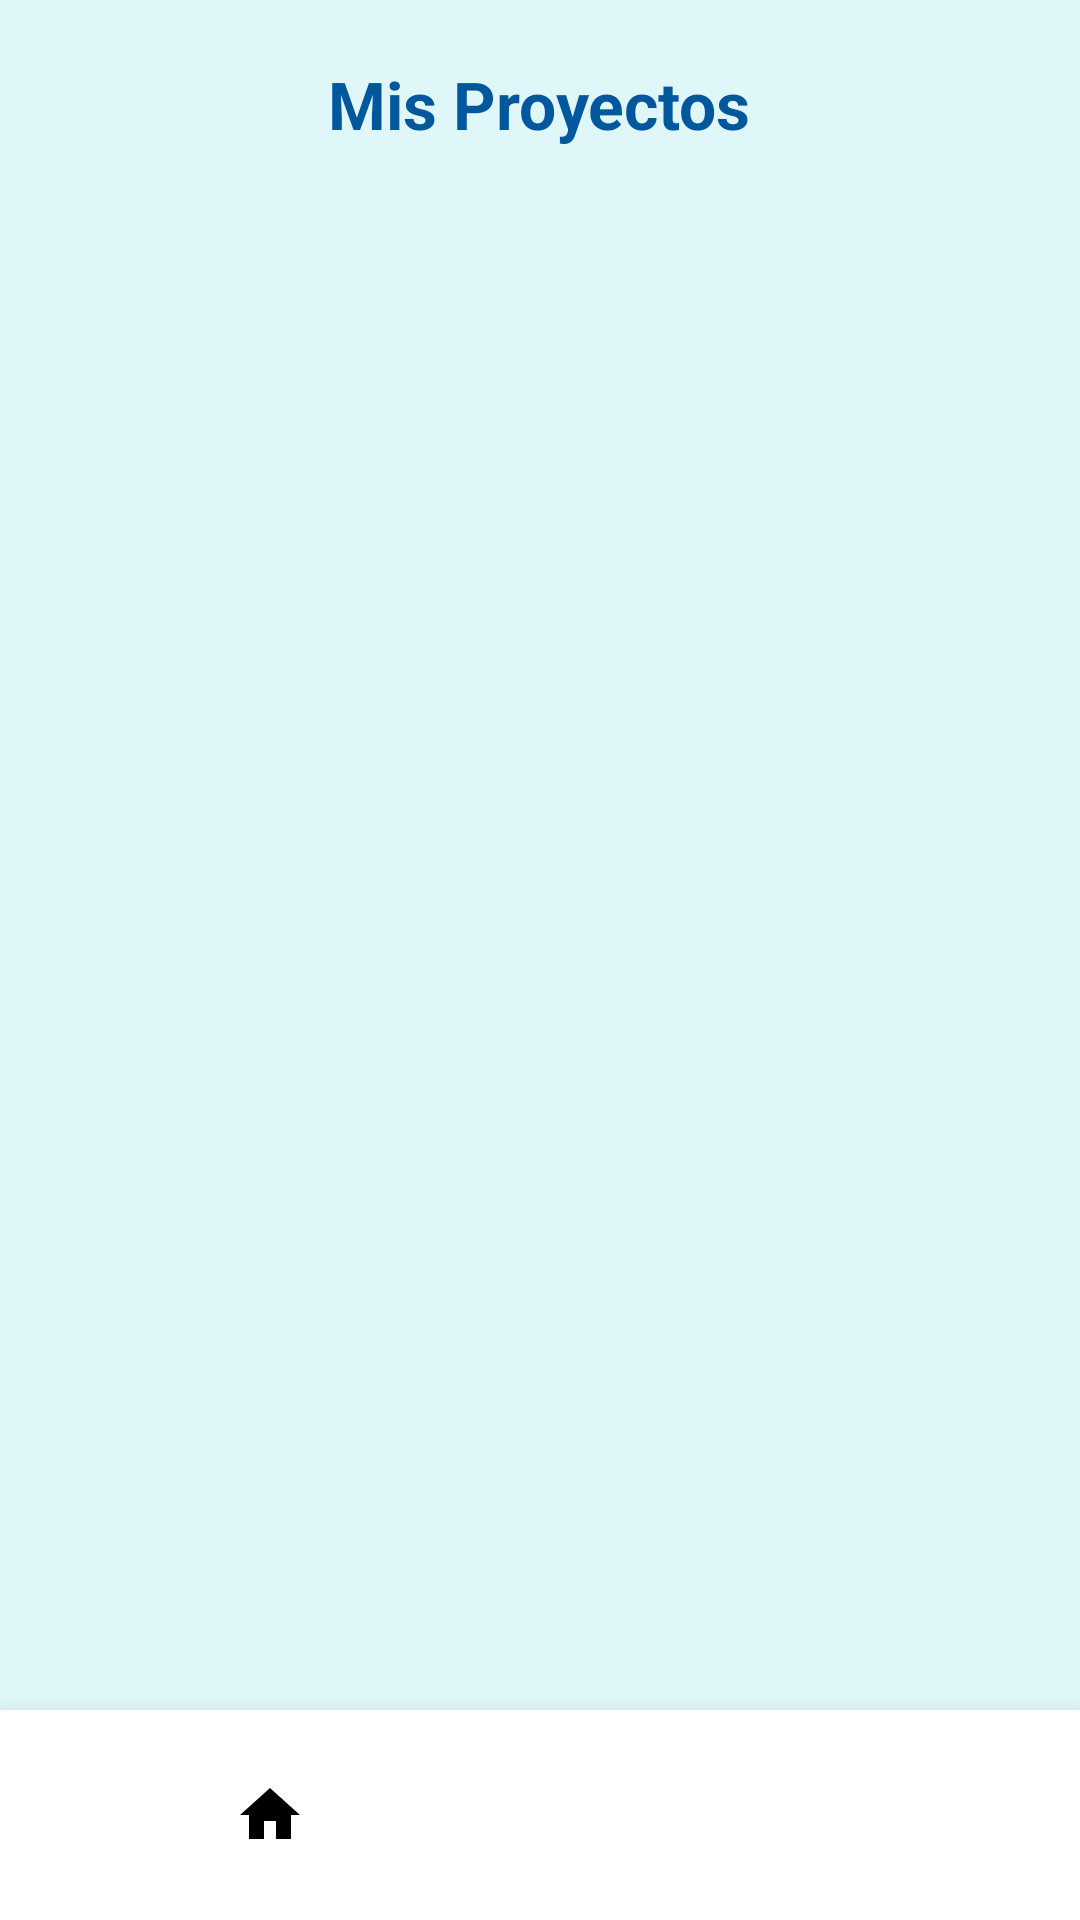

Locate icon controls on the screen. Image size 1080*1920, boxes as [x1, y1, x2, y2].
Inicio: [240, 1788, 300, 1839]
